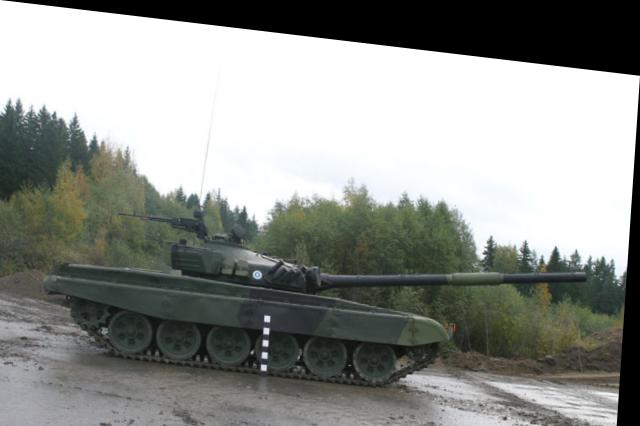tank: (58, 195, 455, 383)
